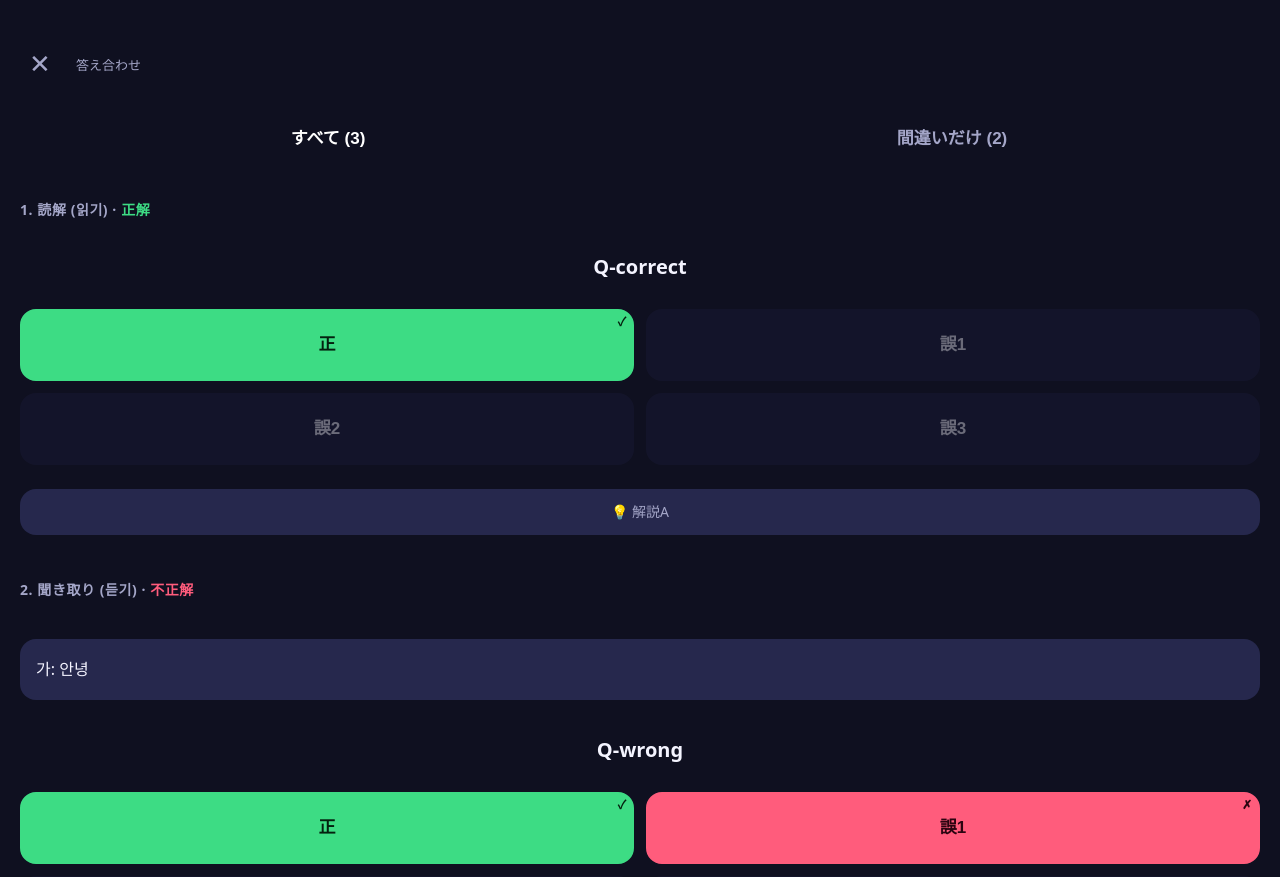
Test: TopikReview › filters to mistakes only (wrong + unanswered count as not-correct)
The image size is (1280, 877).
Click the button "間違いだけ (2)".
click(952, 136)  # box [644,108,1260,165]
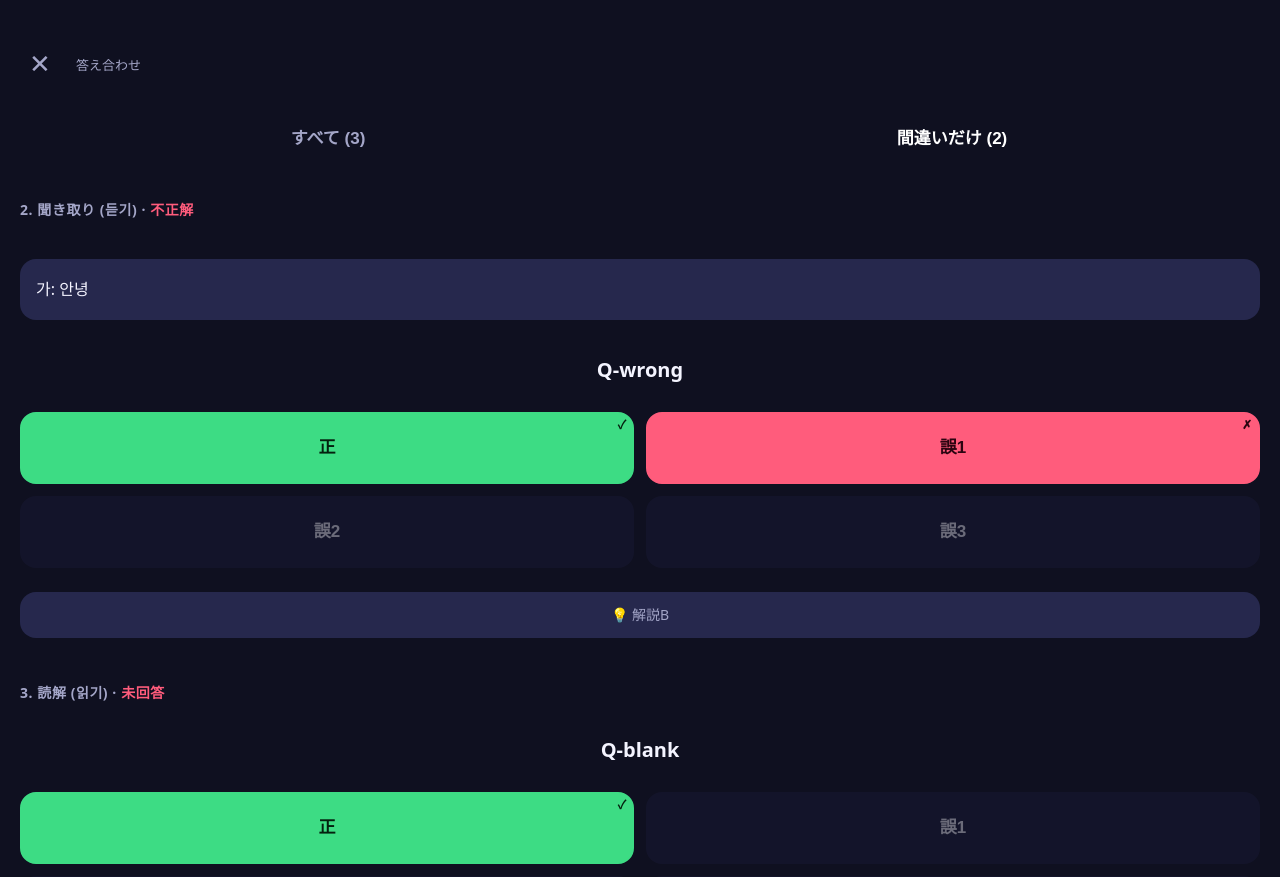
Expected: the text "Q-wrong" is shown, [597,356,683,383]
Now the text "Q-correct" is gone
